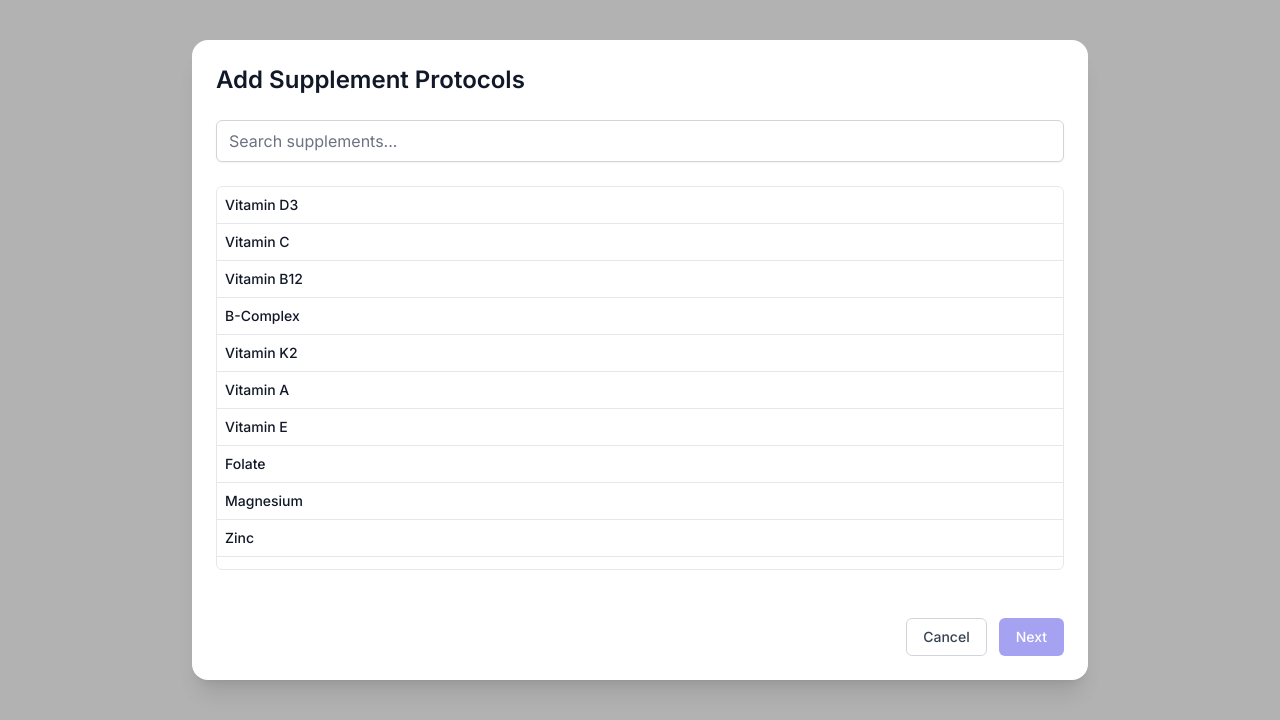
AddSupplementProtocolModal › handles supplement selection
Click the text "Vitamin D3" at (262, 204), box [225,196,298,213]
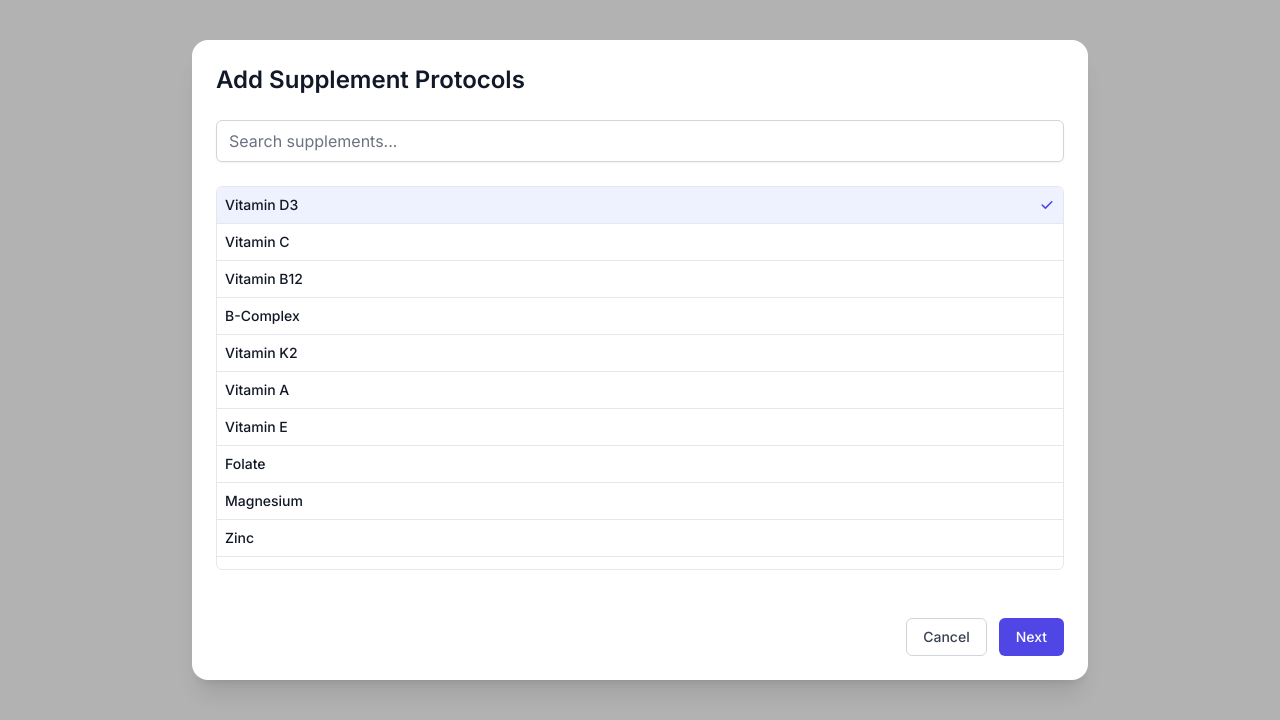
Result: the button "Next" is enabled at [999,618,1064,656]
